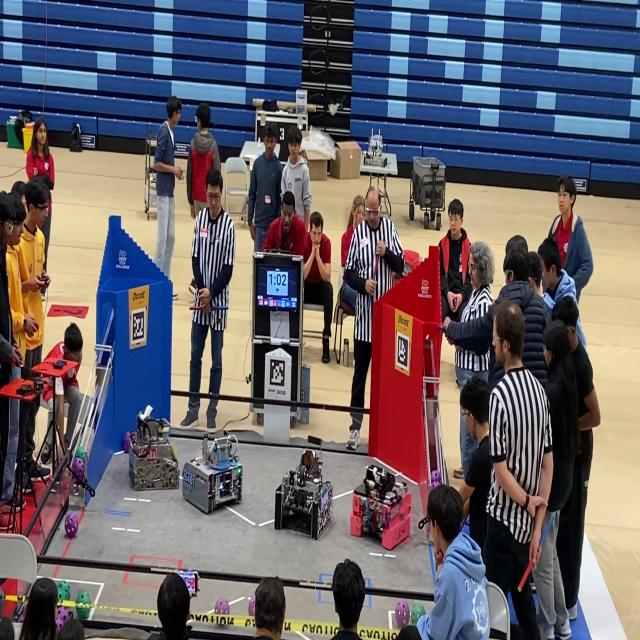artifact_green: (76, 590, 91, 620), (56, 607, 72, 634), (411, 603, 425, 625), (57, 580, 70, 602), (74, 446, 86, 462), (0, 588, 5, 615)
artifact_purple: (395, 601, 410, 628), (56, 607, 71, 634), (65, 512, 78, 539), (72, 458, 84, 481), (215, 598, 229, 615), (124, 432, 133, 453), (431, 470, 441, 488), (248, 595, 255, 616), (18, 606, 26, 623)
